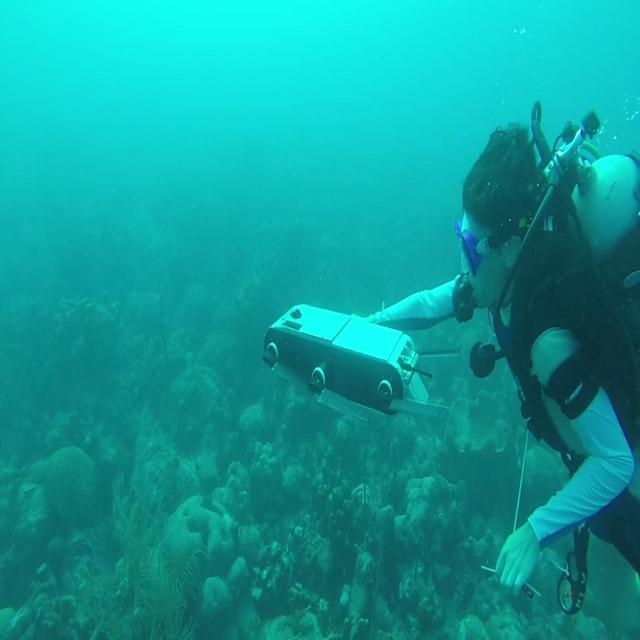human: (365, 103, 639, 619)
